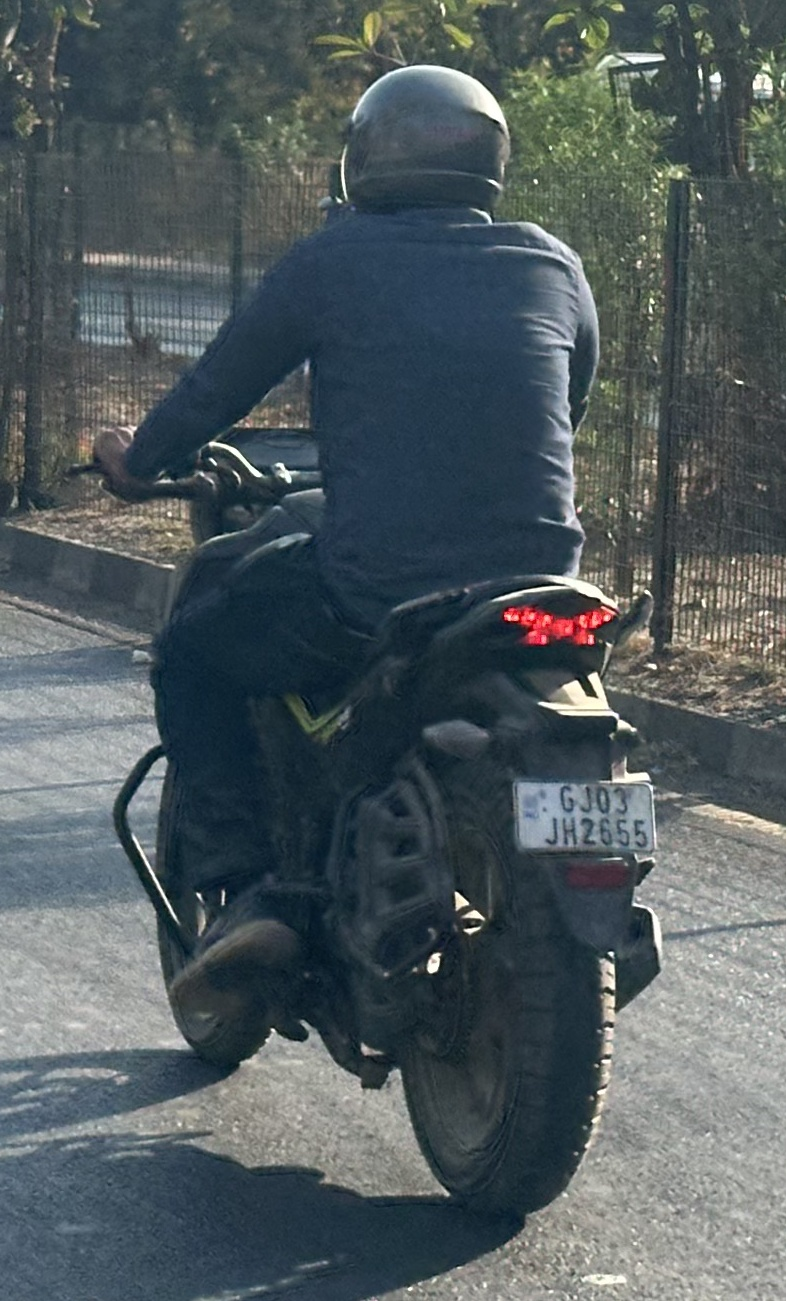BikeWithRider: (52, 53, 673, 1221)
Helmet: (329, 56, 518, 230)
